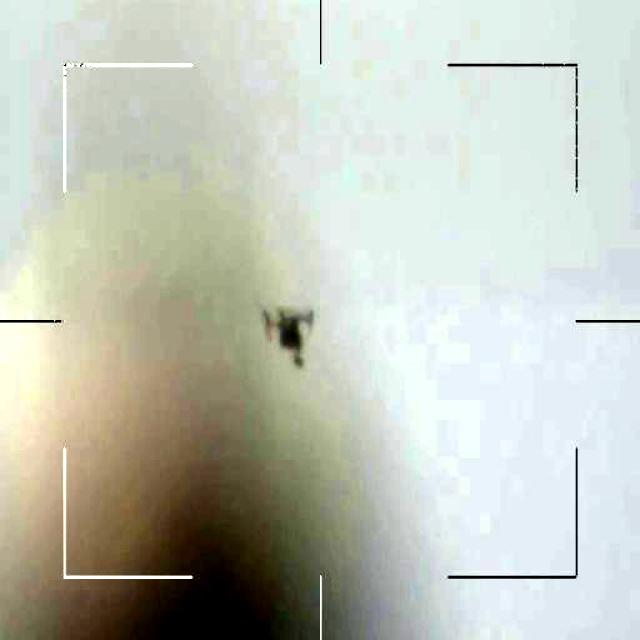bird: (258, 296, 320, 370)
